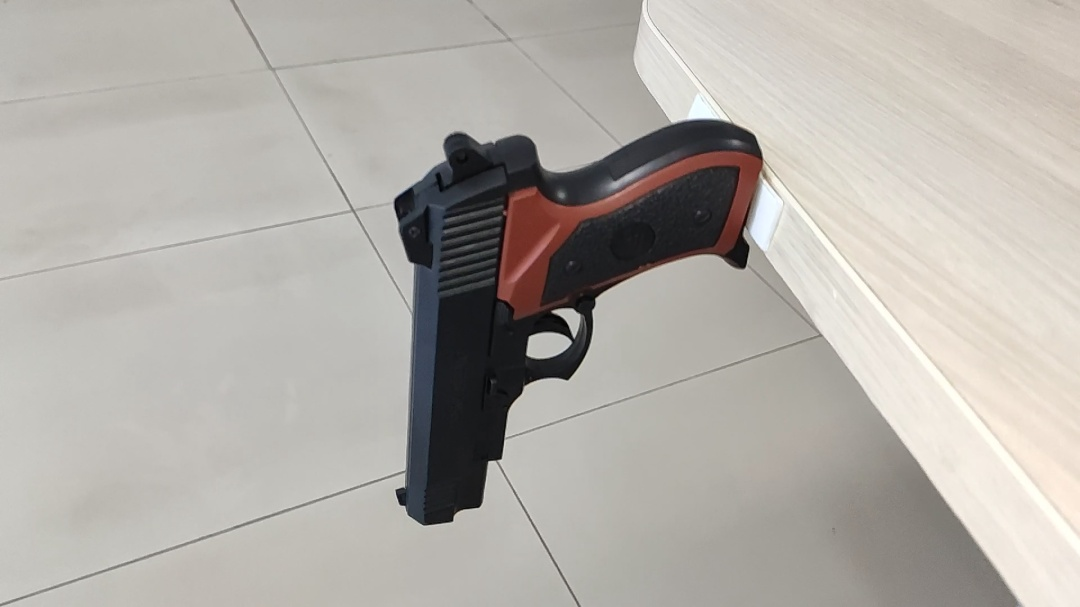gun: (386, 118, 761, 529)
